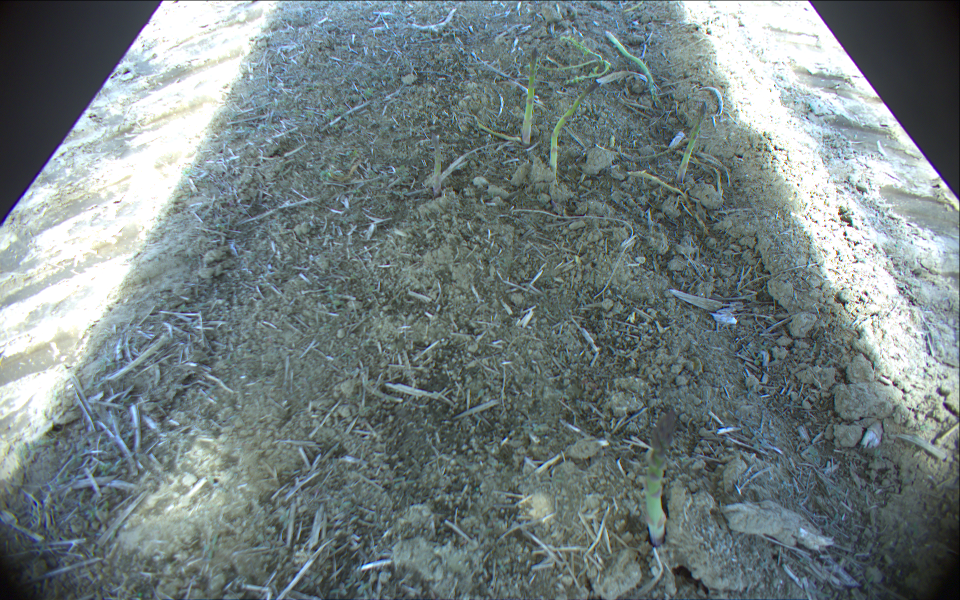aspa: (550, 80, 601, 173), (646, 410, 678, 548), (603, 31, 657, 95), (677, 101, 707, 180), (628, 171, 692, 207), (521, 47, 538, 144), (428, 130, 442, 197)
